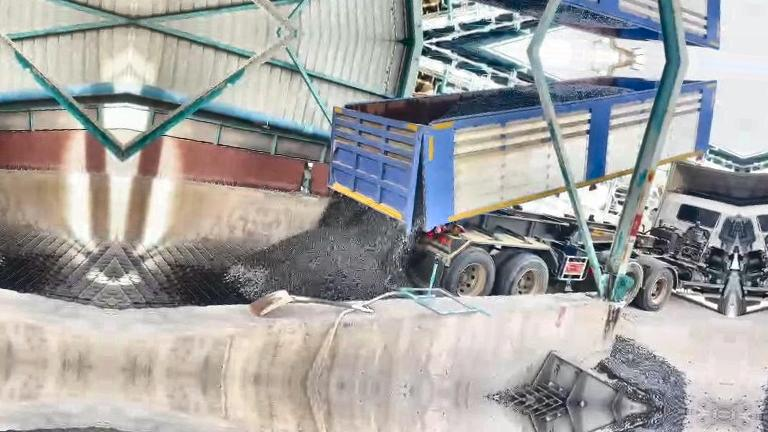gravel: (225, 195, 410, 300), (597, 336, 688, 410), (440, 85, 540, 118), (550, 84, 633, 102)
